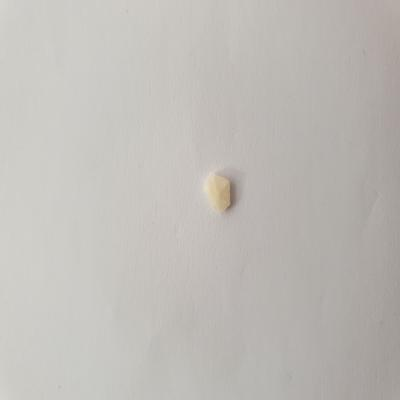plastic: (206, 169, 239, 215)
